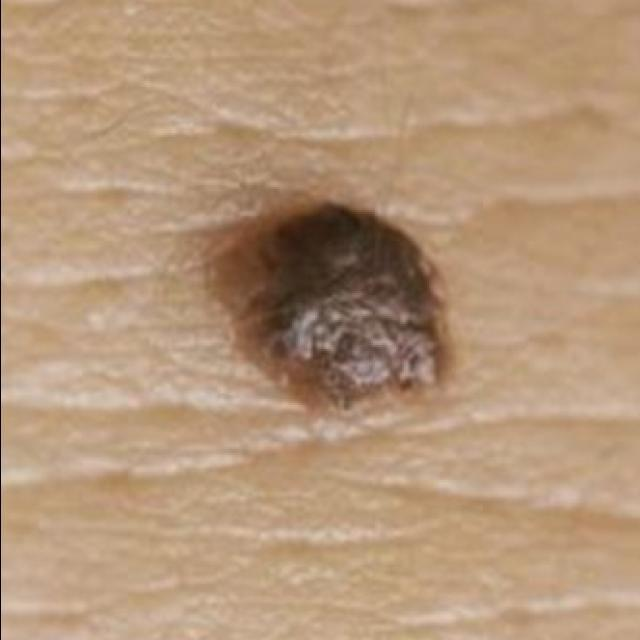wart: (197, 183, 462, 449)
